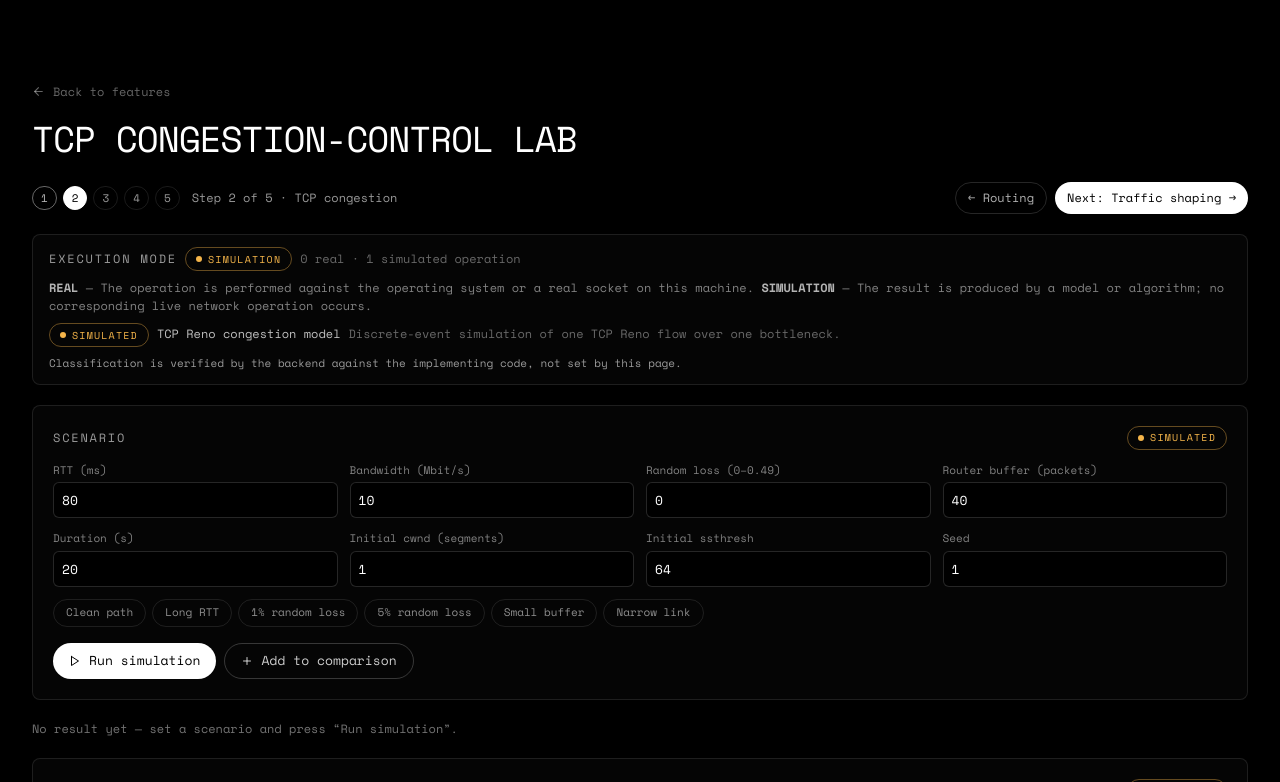
Test: TCP congestion lab › marks the result out of date when an input changes after a run
Click the button "Run simulation" at (135,660), box [53,642,216,678]
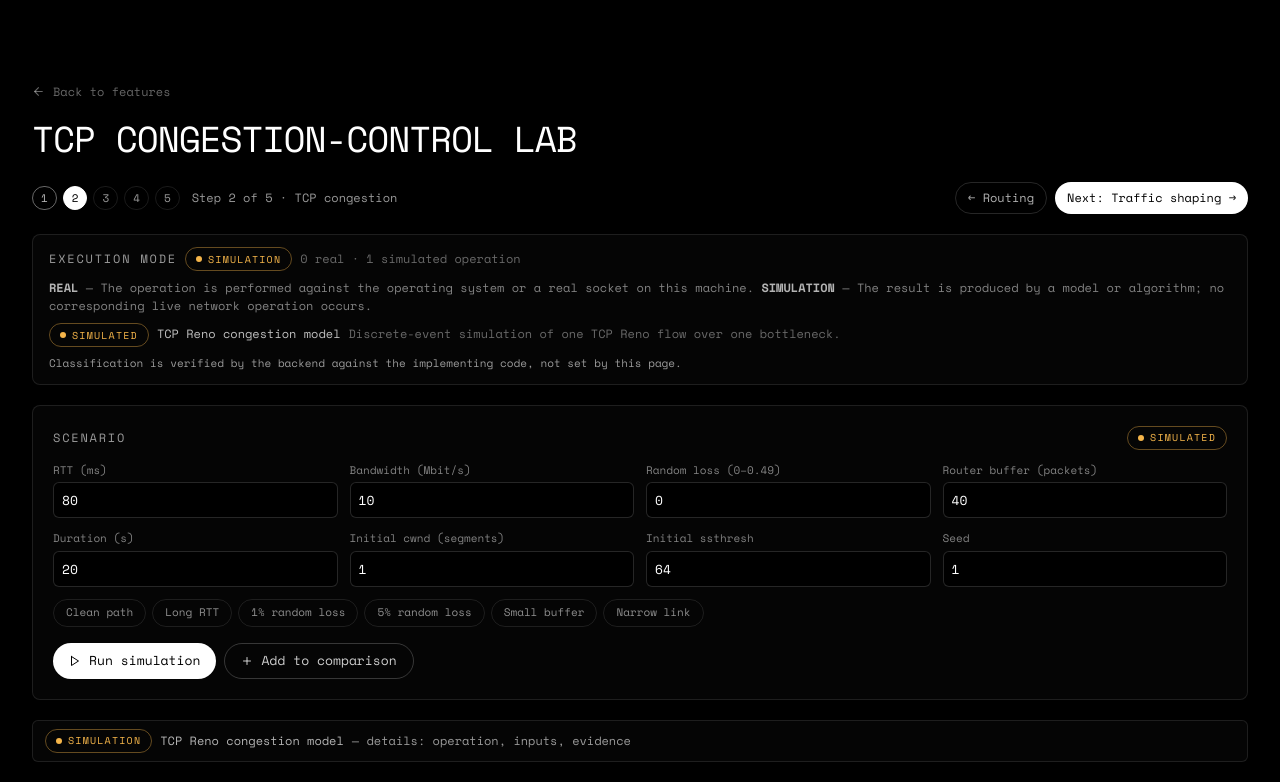
Check: the element with test id "execution" is shown, box [32,720,1248,762]
Replace the text in the number field labelled "Router buffer (packets)" with "8" at (1085,500), box [942,482,1227,518]
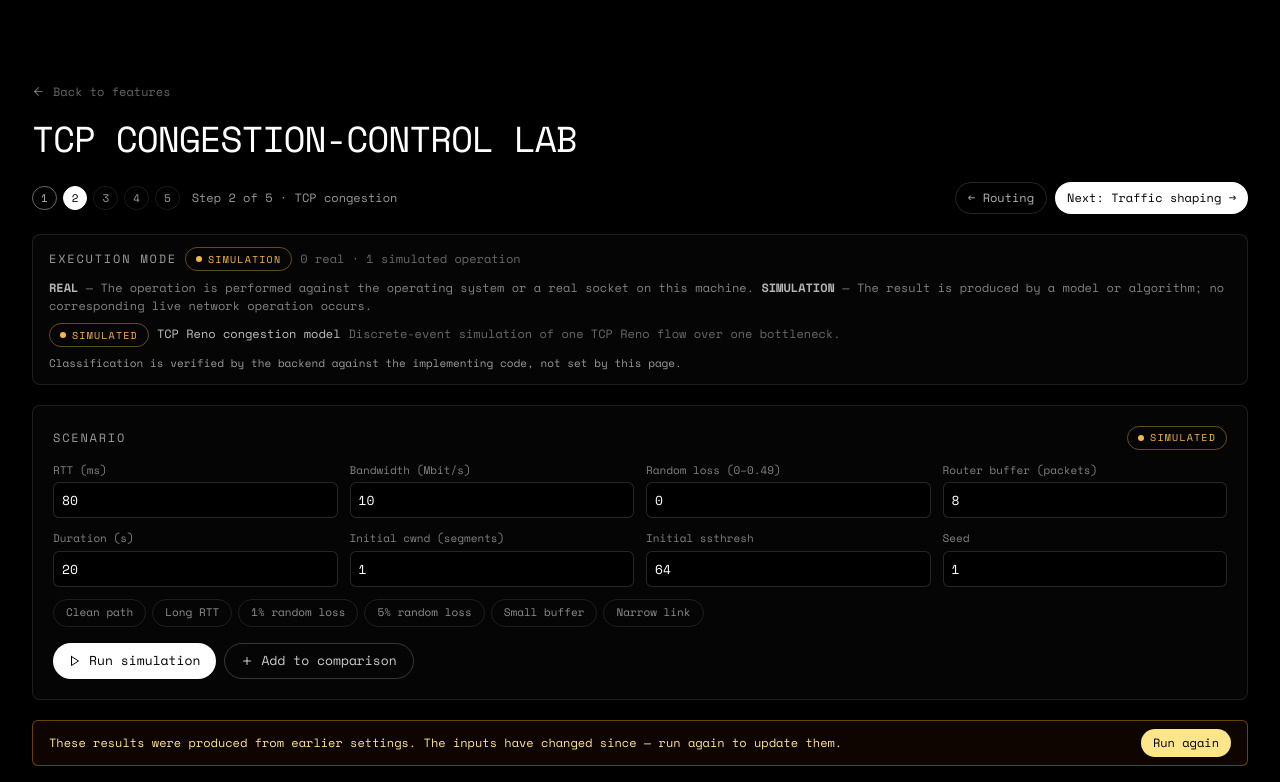
Check: the message with test id "stale" is shown, box [32,720,1248,766]
Replace the text in the number field labelled "Router buffer (packets)" with "40" at (1085,500), box [942,482,1227,518]
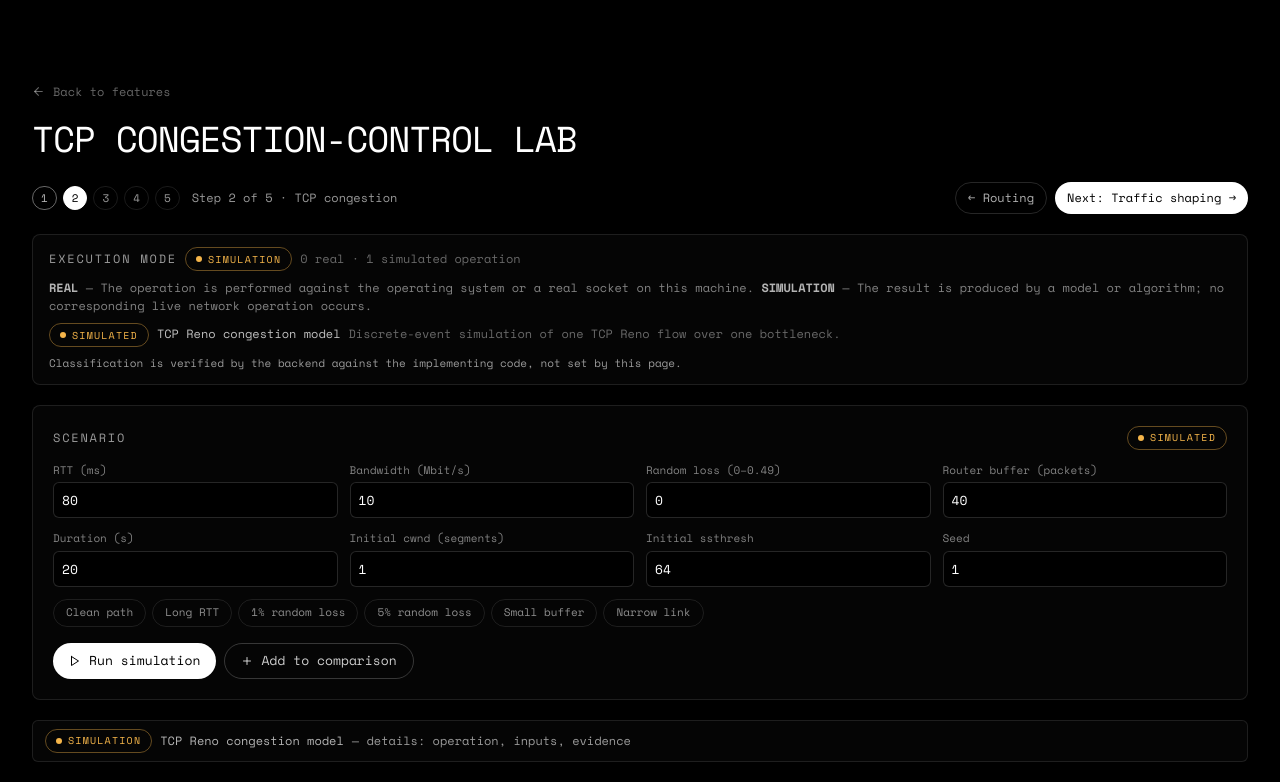
Check: the message with test id "stale" is gone
